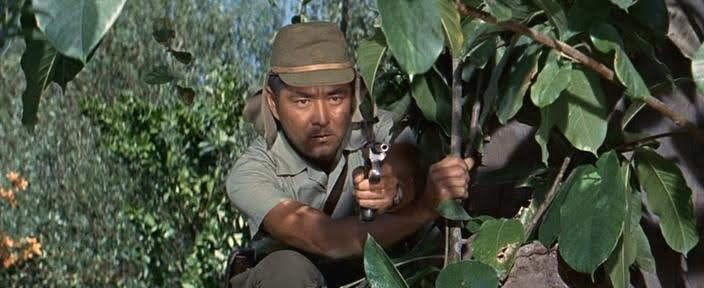gun: (339, 130, 403, 237)
